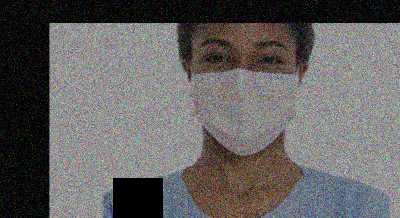with_mask: (191, 36, 298, 156)
